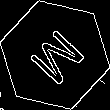M_SE: (21, 21, 89, 89)
